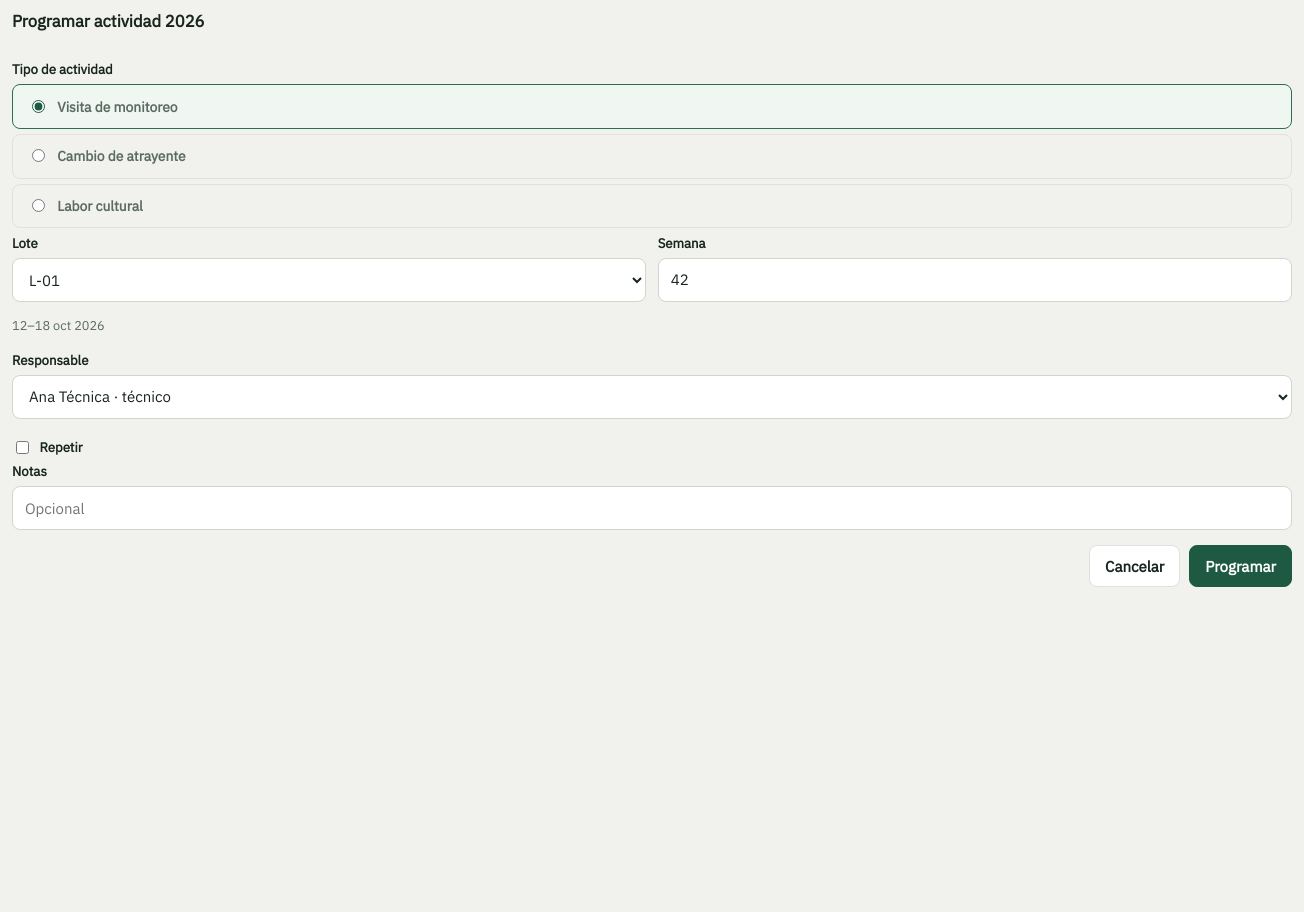
Scenario: FormularioActividad › no deja programar visitas en un lote sin ruta
This screenshot has width=1304, height=912.
Check: the radio button labelled "Visita de monitoreo" is checked, box [32, 100, 44, 113]
Check: the button "Programar" is enabled, box [1189, 545, 1292, 587]
Select "L-02 · Alto" in the dropdown labelled "Lote" at coordinates (329, 280), box [12, 258, 646, 302]
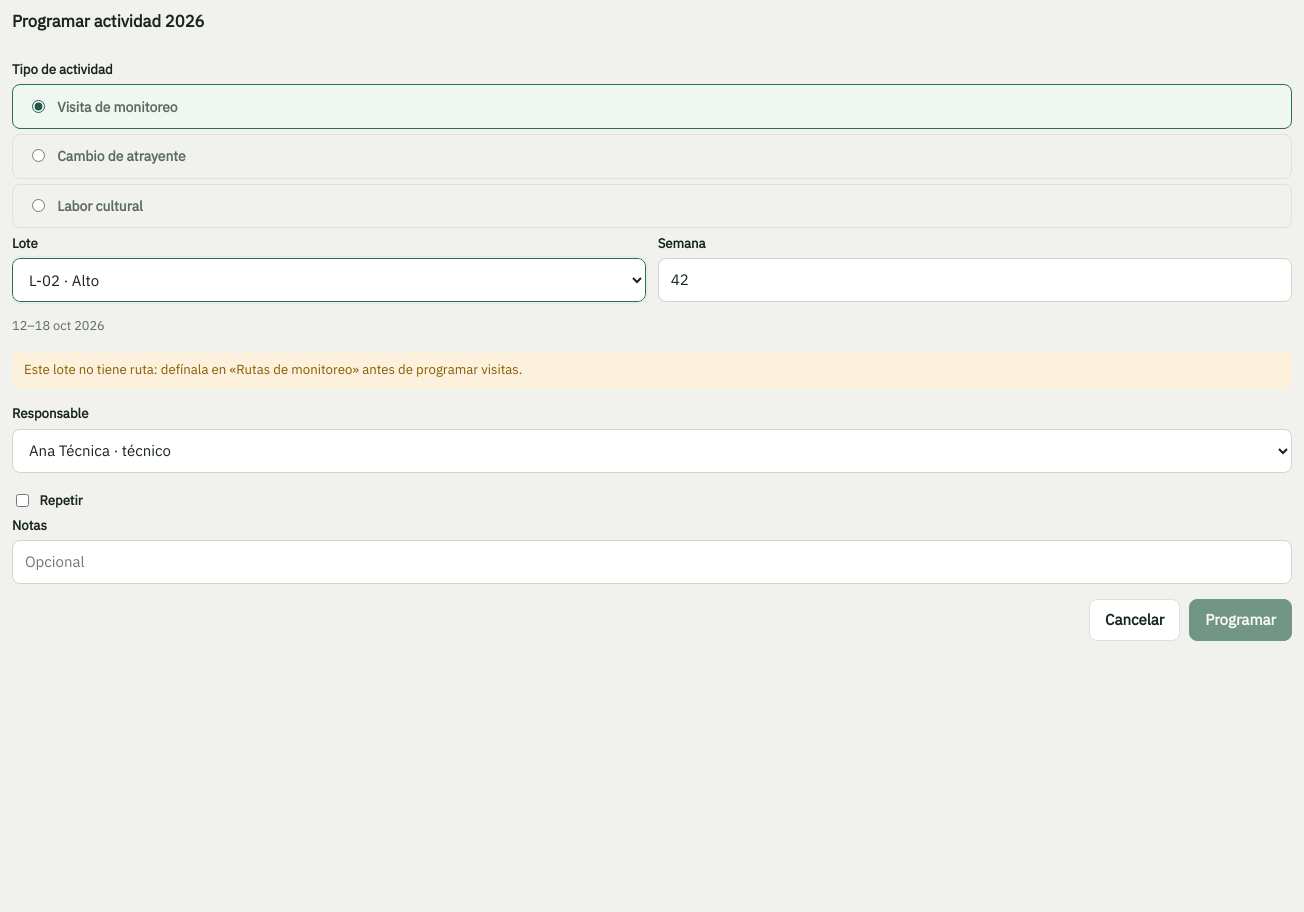
Check: the message shows "Este lote no tiene ruta", box [24, 360, 522, 378]
Check: the button "Programar" is disabled, box [1189, 599, 1292, 641]
